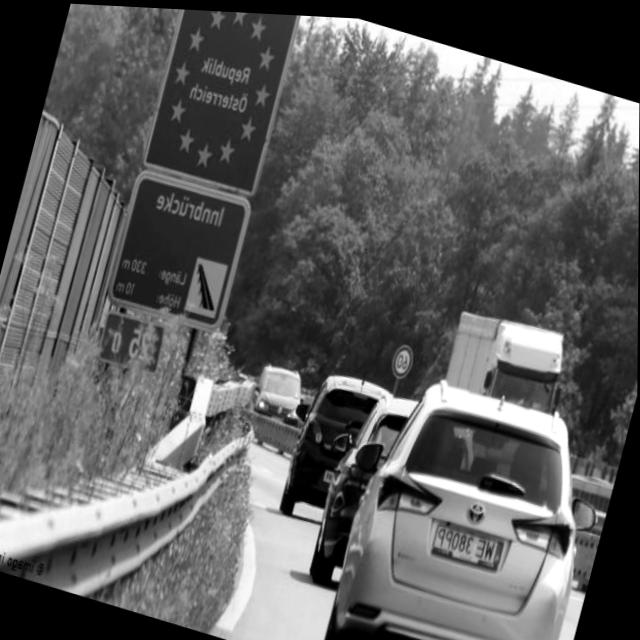cleat: (0, 5, 640, 640)
